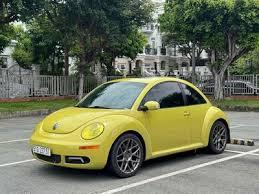volkswagen: (50, 120, 63, 133)
